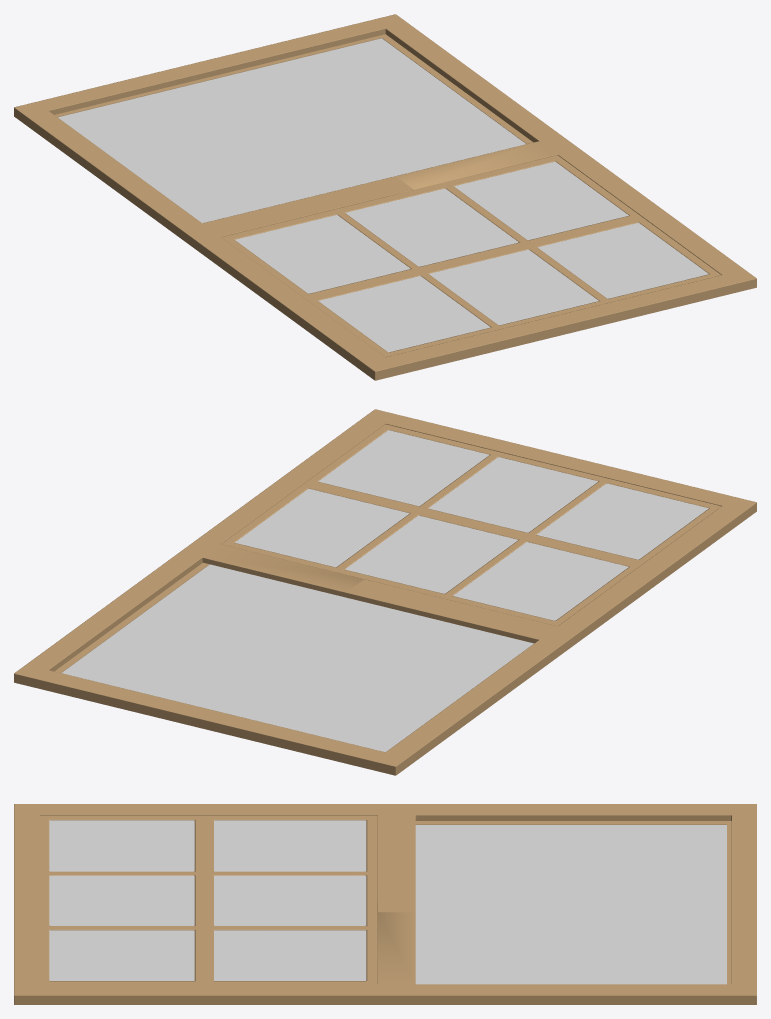
The model's file is Small Window.obj.
3 views of the same model, one above another, from view 1: azimuth 30°, elevation 25°; view 2: azimuth 150°, elevation 25°; view 3: azimuth 270°, elevation 25° (orthographic). The views are drawn at different scales.
Visible parts, largest first — view 1: pCube27, pCube26, pCube30, pCube28, pCube29; view 2: pCube27, pCube26, pCube30, pCube28, pCube29; view 3: pCube27, pCube26, pCube30, pCube28, pCube29.
Part boxes in pixels (x1,y1,x2,y2): pCube27: (58,38,526,223); pCube26: (235,161,708,352); pCube30: (14,14,756,380); pCube28: (222,155,721,357); pCube29: (55,34,533,143); pCube27: (61,564,533,752); pCube26: (235,430,708,620); pCube30: (14,409,756,775); pCube28: (222,424,720,626); pCube29: (54,562,209,672); pCube27: (415,825,726,984); pCube26: (49,820,366,980); pCube30: (14,804,756,1004); pCube28: (39,816,377,984); pCube29: (415,821,731,984).
Size of the model in its own units: 76.21 by 2.35 by 125.
